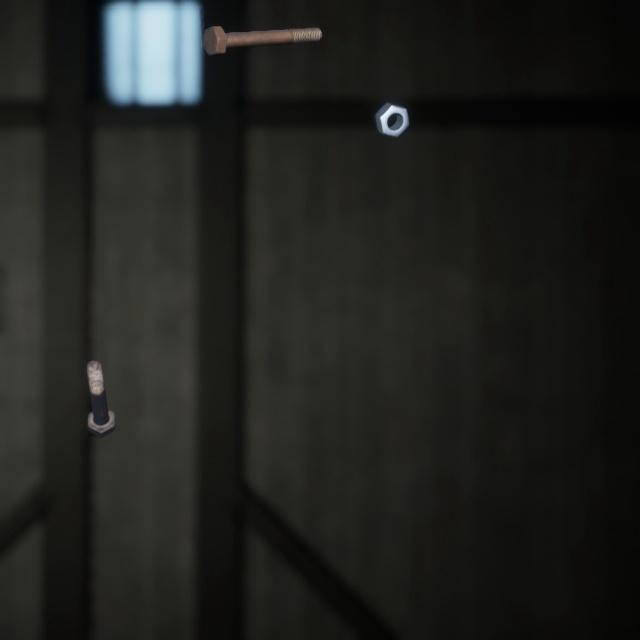bolt: (198, 12, 326, 50), (82, 336, 120, 422)
nut: (370, 86, 413, 130)
